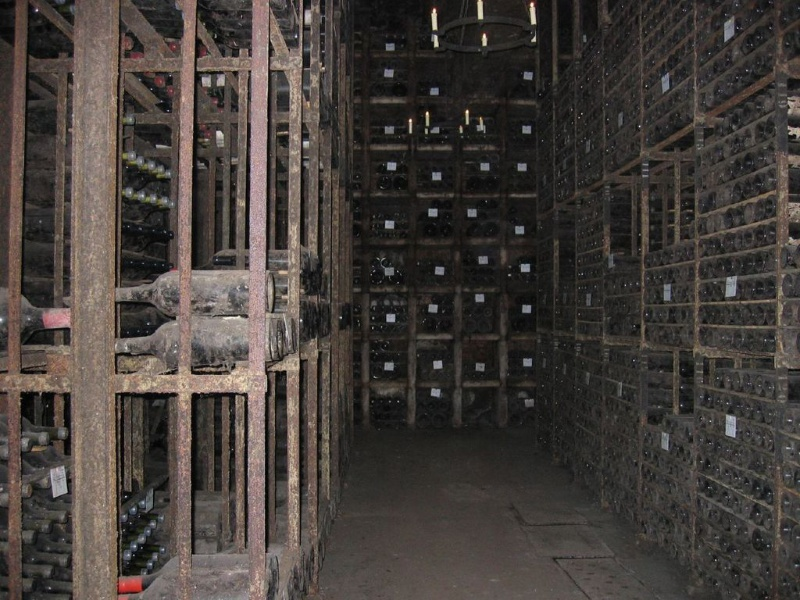wine: (553, 3, 797, 600), (360, 48, 546, 424), (4, 238, 359, 364)
